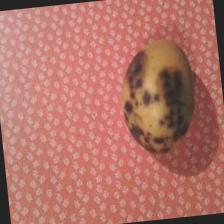Mango Overripe: (110, 32, 204, 158)
